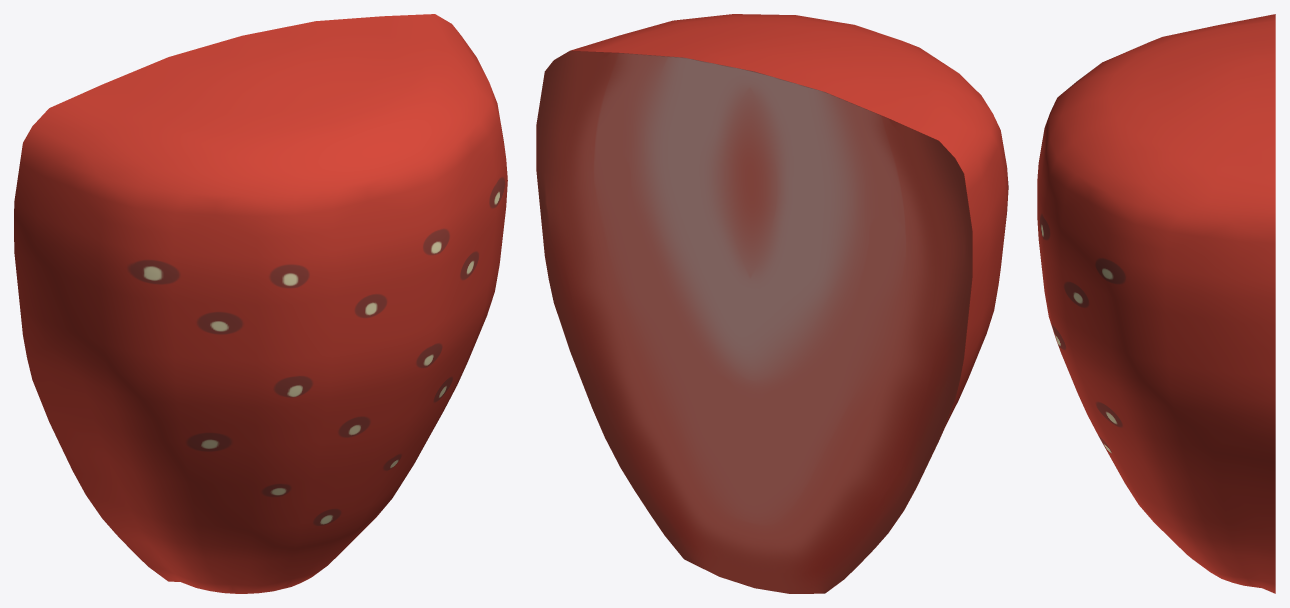
File: strawberry.fbx
3 views of the same model, side by side, from view 1: azimuth 30°, elevation 25°; view 2: azimuth 150°, elevation 25°; view 3: azimuth 270°, elevation 25° (orthographic). The views are drawn at different scales.
Visible parts, largest first — view 1: strawberry; view 2: strawberry; view 3: strawberry.
Part boxes in pixels (x1=…): strawberry: x1=14, y1=14, x2=507, y2=593; strawberry: x1=536, y1=14, x2=1008, y2=593; strawberry: x1=1037, y1=14, x2=1275, y2=593.
Size of the model in its own units: 7.65 by 8.66 by 3.78.
